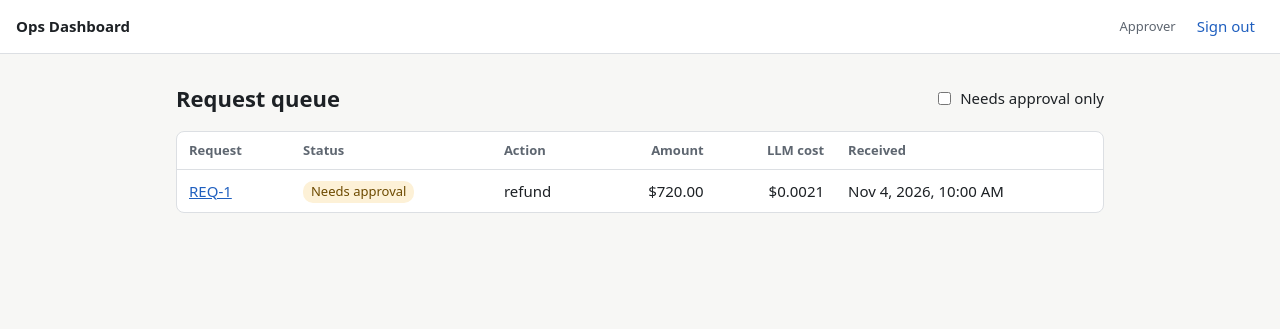
Test: sign out clears the token
Click the button "Sign out". click: [1226, 26]
box: [1188,10,1264,42]
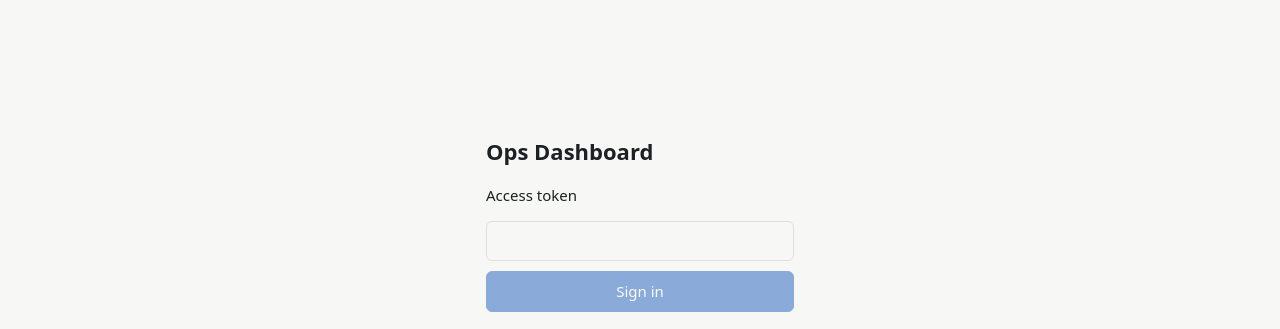
Result: the password field labelled "Access token" is shown at [486,220,794,261]
